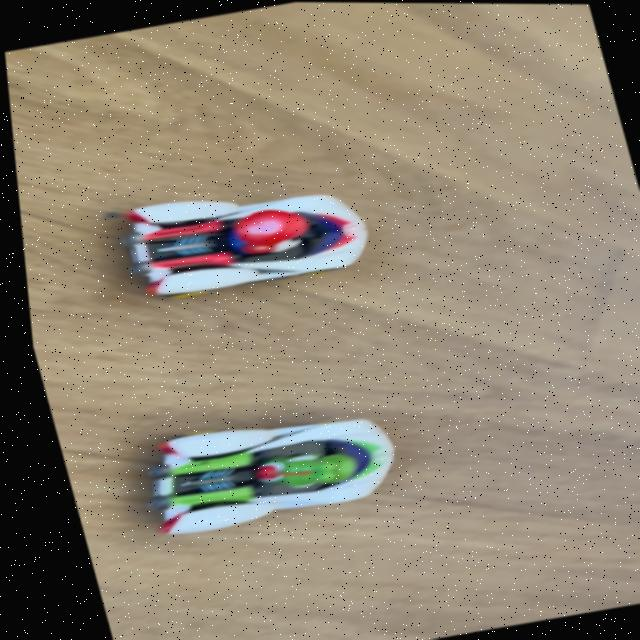mario: (92, 166, 400, 322)
yoshi: (101, 384, 422, 549)
